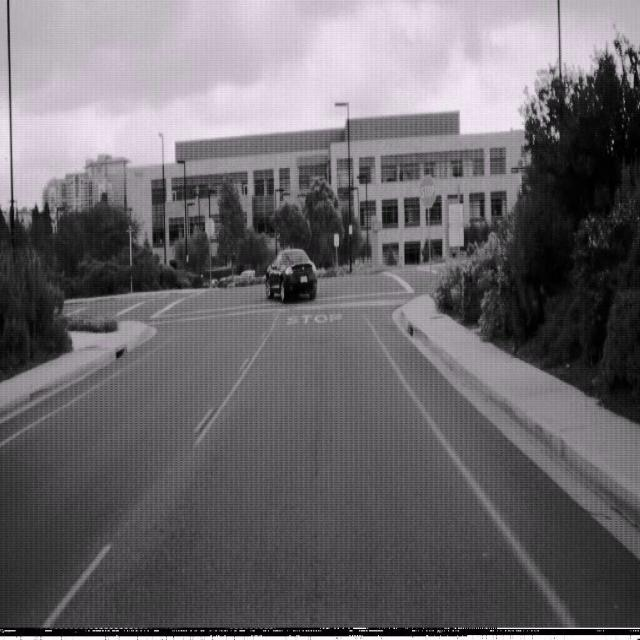stop: (419, 174, 436, 209)
